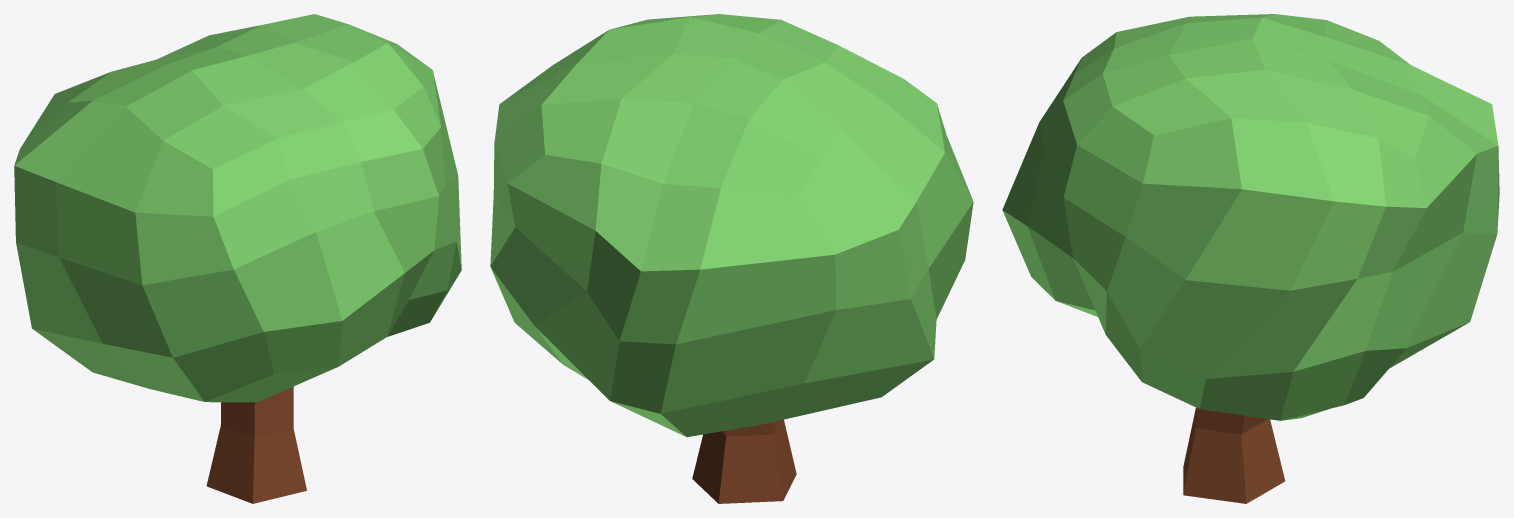
Rendered from bush1.fbx.
3 renders of one model, left to right at view 1: azimuth 30°, elevation 25°; view 2: azimuth 150°, elevation 25°; view 3: azimuth 270°, elevation 25°, orthographic. The views are drawn at different scales.
Visible parts, largest first — view 1: Cylinder; view 2: Cylinder; view 3: Cylinder.
Boxes of the visible parts, x1,y1,x2,y2 form: Cylinder: [14, 14, 461, 503]; Cylinder: [490, 14, 973, 503]; Cylinder: [1002, 14, 1499, 503].
Size of the model in its own units: 471 by 466 by 474.
